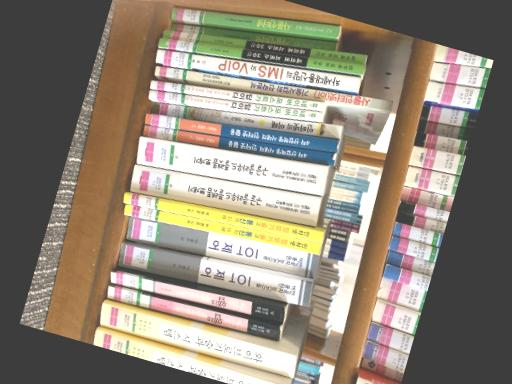book-spine: (99, 304, 296, 378), (118, 242, 311, 307), (128, 164, 320, 228), (126, 216, 318, 279), (136, 137, 327, 196), (153, 65, 392, 112), (93, 328, 282, 384), (123, 205, 321, 256), (123, 193, 324, 243), (106, 286, 280, 341), (110, 272, 284, 324), (155, 50, 360, 94), (157, 38, 365, 77), (142, 125, 335, 166), (144, 113, 339, 153), (161, 29, 366, 64), (150, 102, 343, 139), (169, 6, 339, 39), (148, 90, 321, 122), (149, 80, 324, 111), (170, 23, 334, 51)
